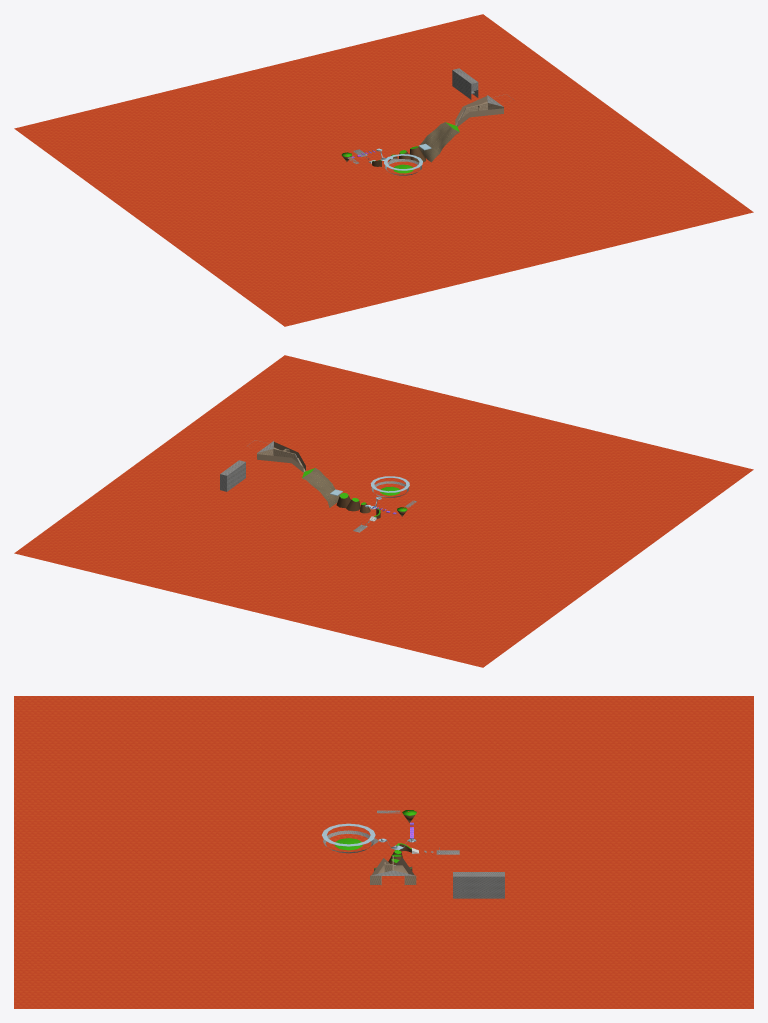
Rendered from fireSea_collision.obj.
3 views of the same model, one above another, from view 1: azimuth 30°, elevation 25°; view 2: azimuth 150°, elevation 25°; view 3: azimuth 270°, elevation 25° (orthographic). The views are drawn at different scales.
Visible parts, largest first — view 1: Plane001, Plane002, Box023; view 2: Plane001, Plane002, Box023; view 3: Plane001, Box023.
Boxes of the visible parts, x1,y1,x2,y2 form: Plane001: [14, 14, 753, 326]; Plane002: [419, 122, 459, 162]; Box023: [452, 68, 478, 99]; Plane001: [14, 355, 753, 667]; Plane002: [302, 468, 340, 507]; Box023: [220, 460, 245, 491]; Plane001: [14, 696, 753, 1008]; Box023: [453, 872, 504, 898].
Bounding box in the file's own units: 192 × 20.04 × 192.
